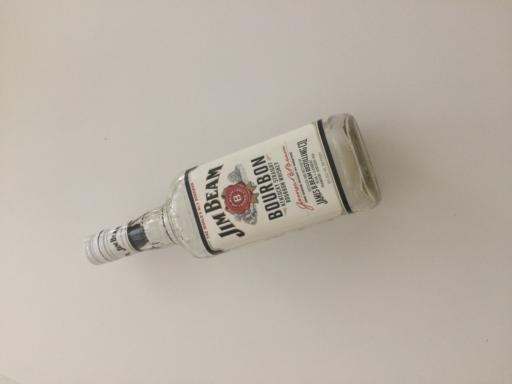botolkaca: (83, 114, 383, 266)
